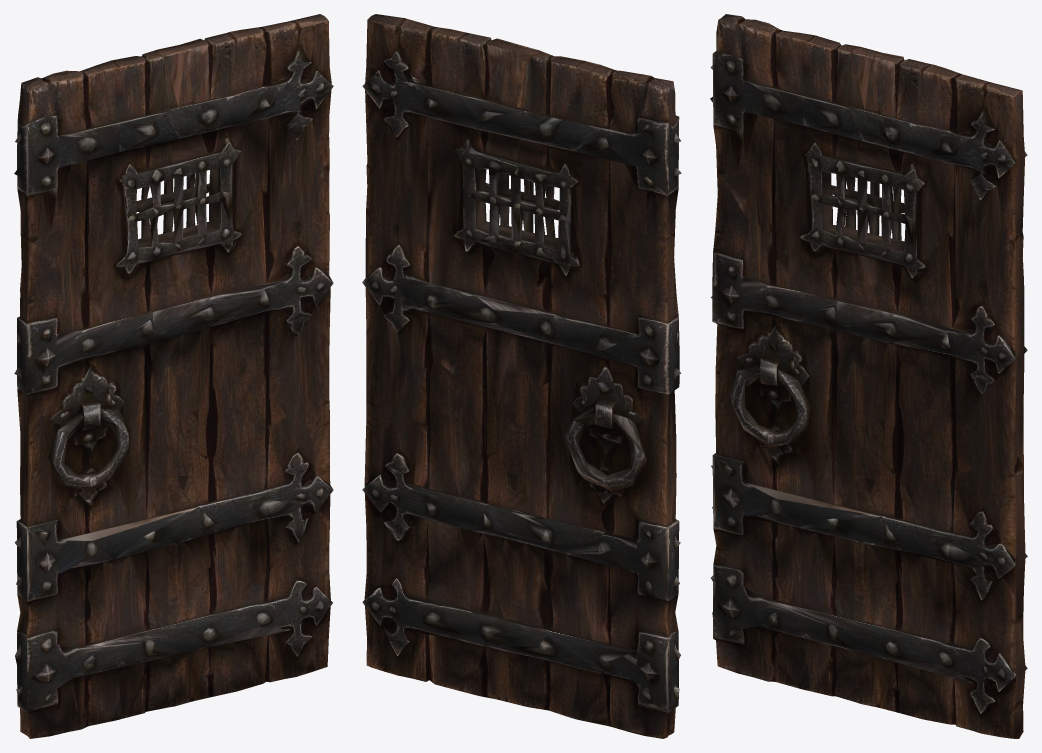
File: door.glb
3 views of the same model, side by side, from view 1: azimuth 30°, elevation 25°; view 2: azimuth 150°, elevation 25°; view 3: azimuth 330°, elevation 25° (orthographic).
Parts seen in each view (by area): view 1: door; view 2: door; view 3: door.
Part boxes in pixels (left/top/right/bottom): door: left=14, top=14, right=333, bottom=738; door: left=362, top=14, right=681, bottom=738; door: left=710, top=14, right=1027, bottom=738.
Size of the model in its own units: 1.05 by 2.1 by 0.12.
Materials: 1 (1 with a texture image).
